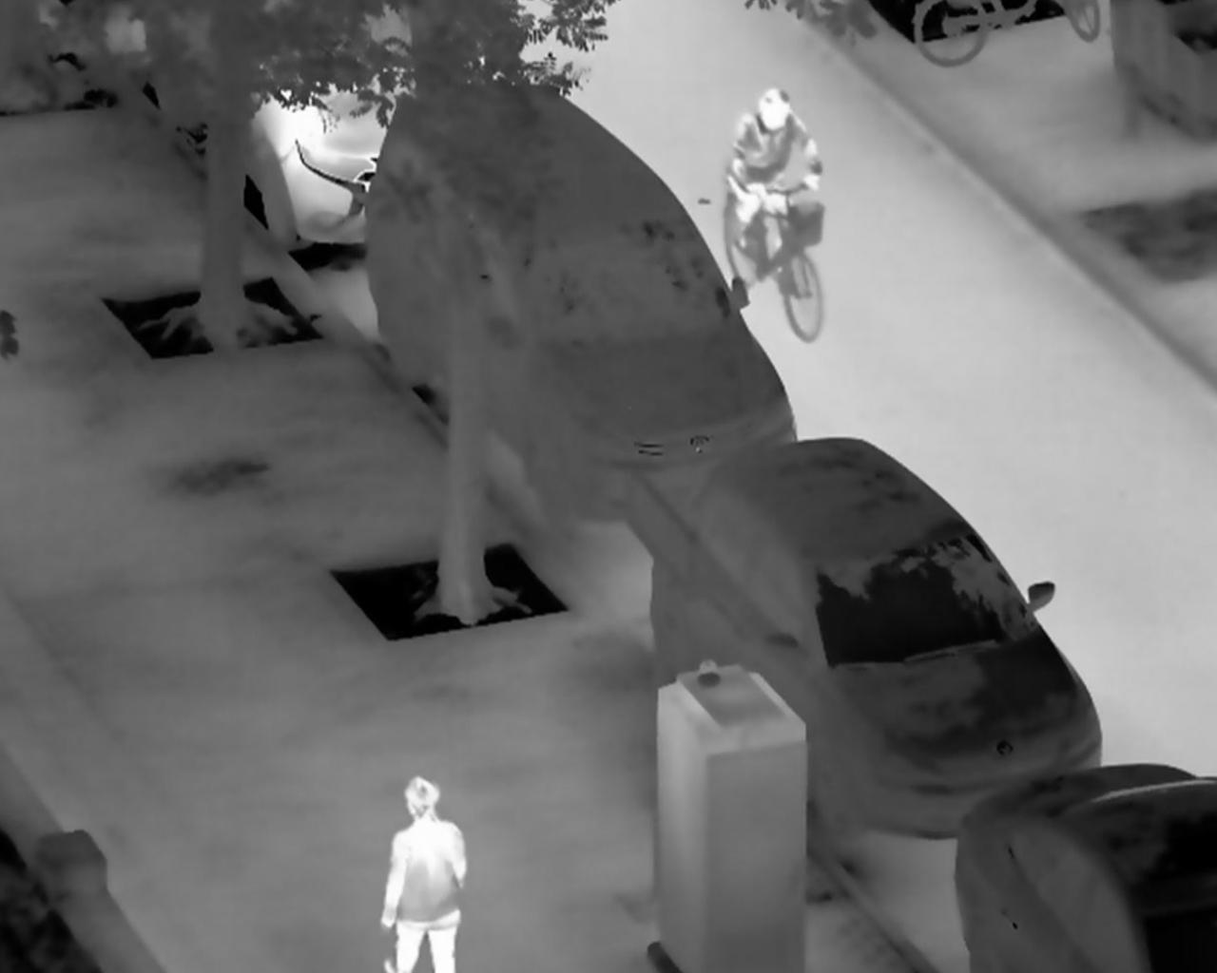person: (378, 774, 469, 973), (721, 85, 825, 254)
